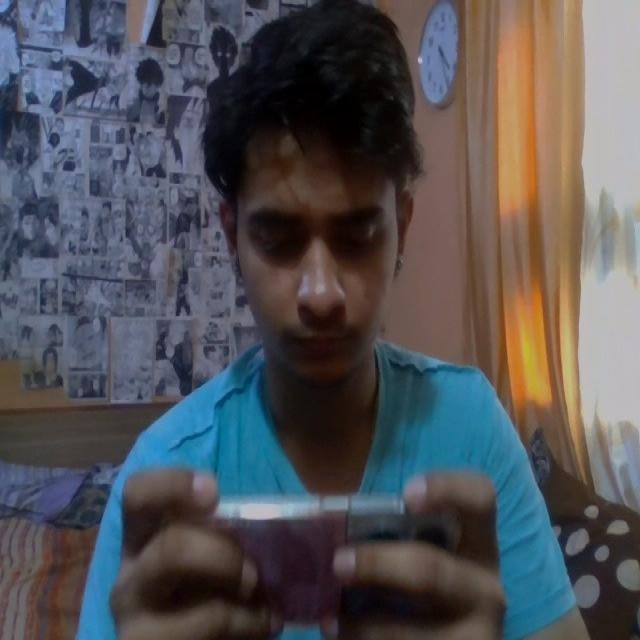phone: (177, 503, 474, 631)
using-phone: (73, 20, 594, 640)
